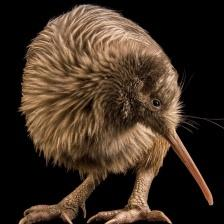bird: (19, 4, 212, 223)
